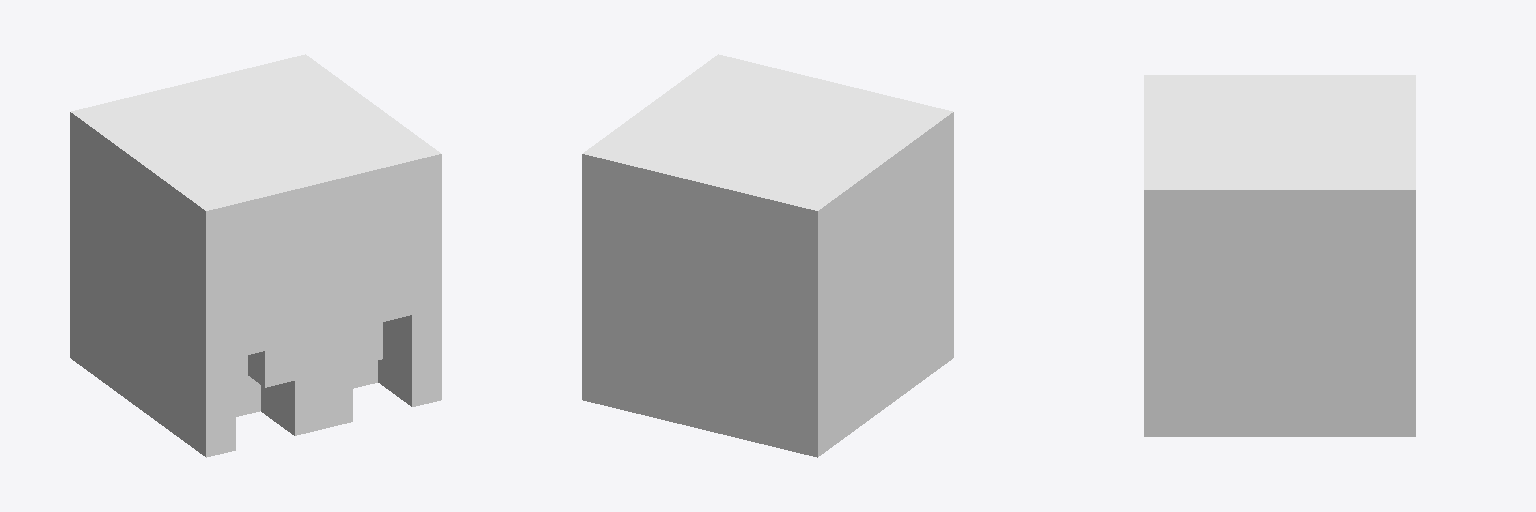
Rendered from Elephant.obj.
3 views of the same model, side by side, from view 1: azimuth 30°, elevation 25°; view 2: azimuth 150°, elevation 25°; view 3: azimuth 270°, elevation 25° (orthographic).
Parts seen in each view (by area): view 1: Elephant; view 2: Elephant; view 3: Elephant.
Part boxes in pixels (bbox=[...]): Elephant: bbox=[70, 54, 441, 457]; Elephant: bbox=[582, 54, 953, 457]; Elephant: bbox=[1144, 75, 1415, 436].
Size of the model in its own units: 40 by 40 by 40.